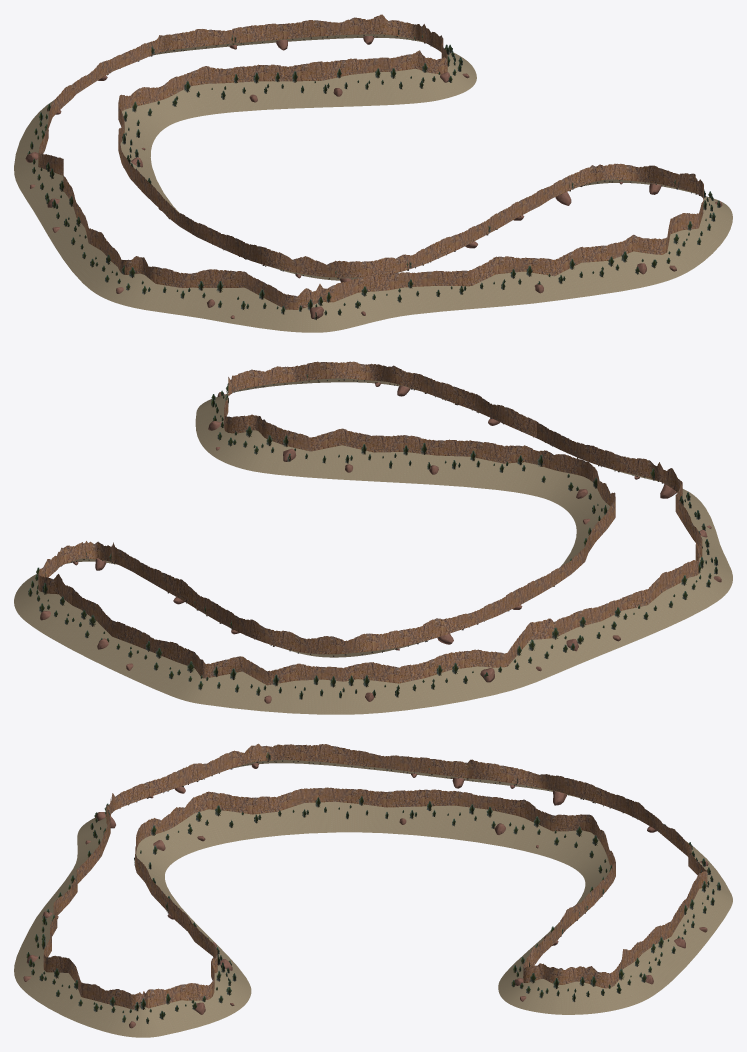
3 views of the same model, one above another, from view 1: azimuth 30°, elevation 25°; view 2: azimuth 150°, elevation 25°; view 3: azimuth 270°, elevation 25° (orthographic). The views are drawn at different scales.
Visible parts, largest first — view 1: Wall_06, Wall_01, Wall_02, Wall_00, Wall_07, Wall_08, Wall_04, Wall_09, Wall_05, Wall_03, Trees_06, Trees_01 (+2 smaller); view 2: Wall_04, Wall_09, Wall_08, Wall_00, Wall_03, Wall_06, Wall_02, Wall_07, Wall_05, Wall_01, Trees_09, Trees_08 (+2 smaller); view 3: Wall_05, Wall_03, Wall_07, Wall_06, Wall_08, Wall_00, Wall_02, Wall_04, Wall_09, Wall_01, Trees_05, Trees_07 (+3 smaller).
Boxes of the visible parts, bbox=[...] form: Wall_06: bbox=[118, 57, 395, 163]; Wall_01: bbox=[182, 269, 476, 332]; Wall_02: bbox=[471, 213, 721, 308]; Wall_00: bbox=[33, 175, 191, 315]; Wall_07: bbox=[352, 14, 476, 104]; Wall_08: bbox=[102, 17, 354, 77]; Wall_04: bbox=[301, 174, 571, 280]; Wall_09: bbox=[14, 62, 102, 210]; Wall_05: bbox=[118, 135, 311, 277]; Wall_03: bbox=[572, 163, 732, 243]; Trees_06: bbox=[122, 68, 383, 152]; Trees_01: bbox=[198, 279, 466, 319]; Wall_04: bbox=[277, 428, 607, 522]; Wall_09: bbox=[289, 618, 576, 714]; Wall_08: bbox=[42, 588, 293, 713]; Wall_00: bbox=[554, 525, 732, 664]; Wall_03: bbox=[195, 366, 293, 474]; Wall_06: bbox=[133, 558, 435, 657]; Wall_02: bbox=[289, 361, 536, 438]; Wall_07: bbox=[14, 541, 133, 632]; Wall_05: bbox=[435, 487, 615, 637]; Wall_01: bbox=[537, 422, 723, 553]; Trees_09: bbox=[294, 639, 567, 699]; Trees_08: bbox=[64, 609, 281, 695]; Wall_05: bbox=[179, 787, 525, 850]; Wall_03: bbox=[65, 955, 251, 1037]; Wall_07: bbox=[498, 941, 668, 1014]; Wall_06: bbox=[511, 800, 615, 966]; Wall_08: bbox=[637, 832, 732, 983]; Wall_00: bbox=[206, 743, 473, 781]; Wall_02: bbox=[14, 870, 82, 1016]; Wall_04: bbox=[135, 807, 245, 977]; Wall_09: bbox=[467, 759, 707, 859]; Wall_01: bbox=[54, 763, 206, 894]; Trees_05: bbox=[187, 796, 518, 834]; Trees_07: bbox=[511, 947, 651, 1001].
Size of what is drawn, in the model's own units: 528 by 34.84 by 585.
